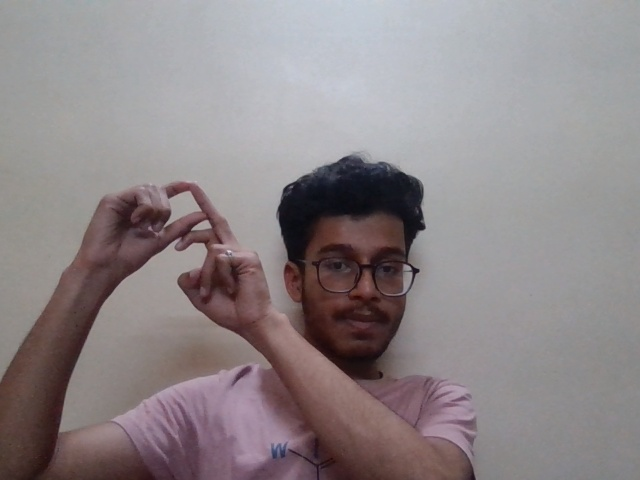R: (63, 167, 281, 333)
